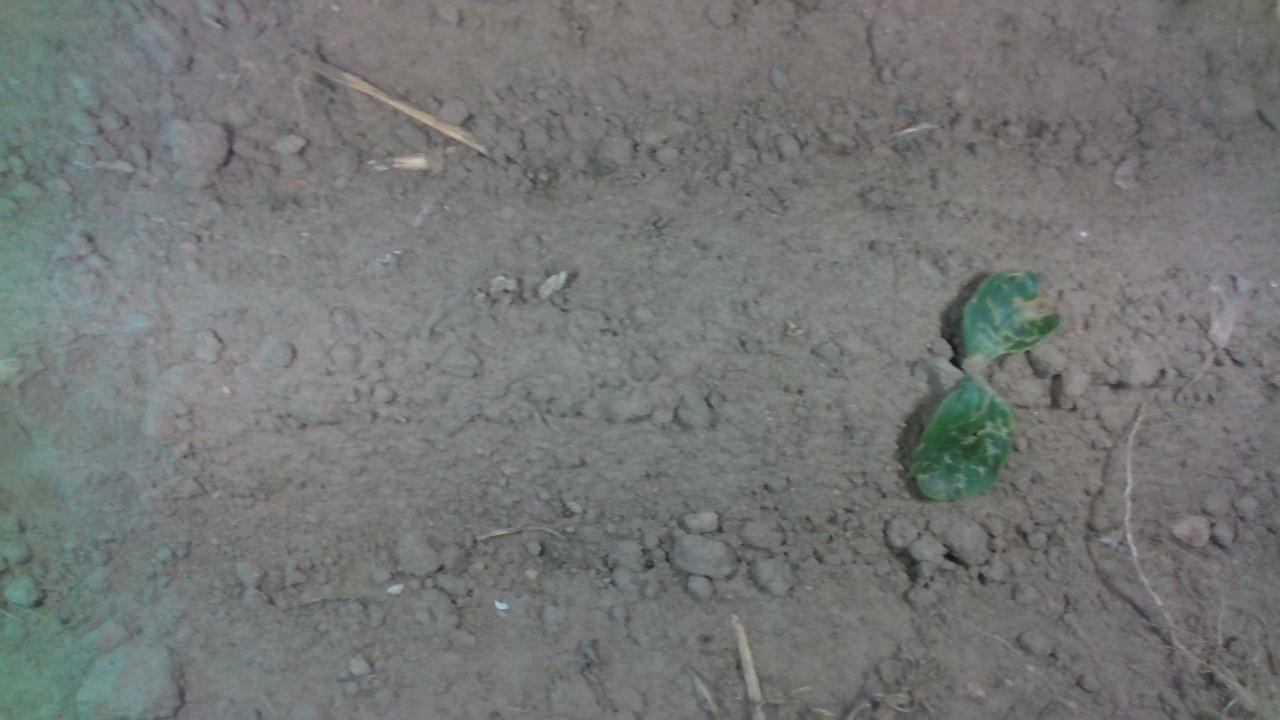crop: (906, 266, 1060, 500)
